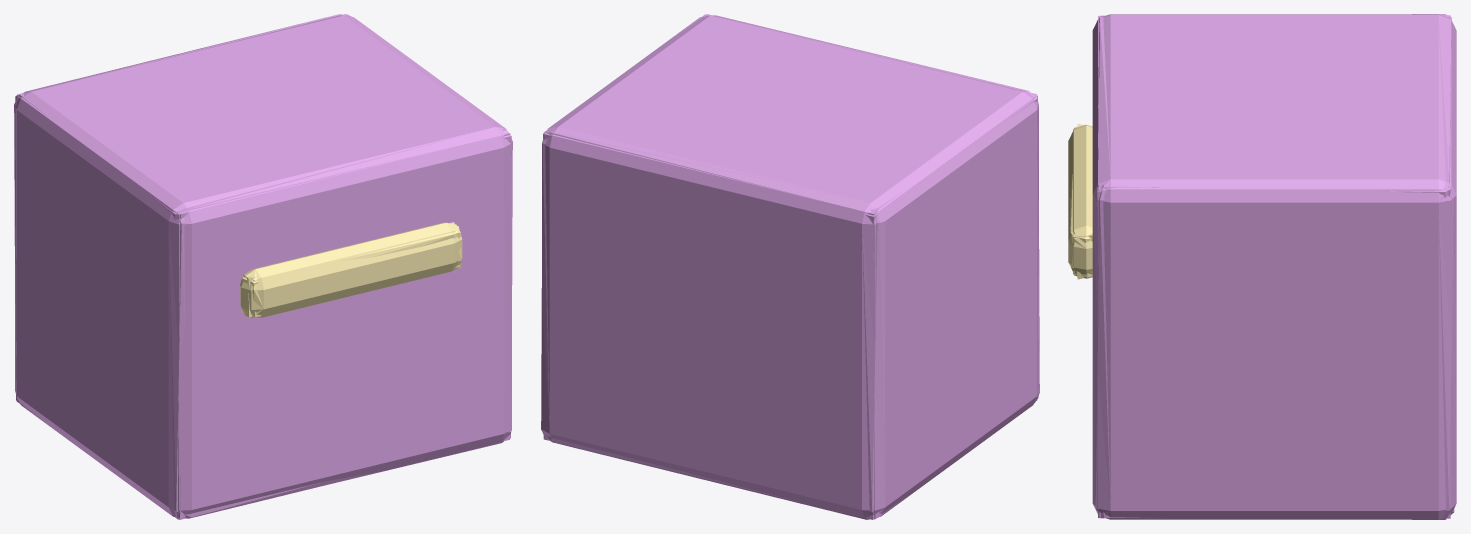
Rendered from SM_Walker.fbx.
3 renders of one model, left to right at view 1: azimuth 30°, elevation 25°; view 2: azimuth 150°, elevation 25°; view 3: azimuth 270°, elevation 25°, orthographic. The views are drawn at different scales.
Visible parts, largest first — view 1: SM_Walker, LOD1_SM_Walker, LOD2_SM_Walker; view 2: SM_Walker, LOD1_SM_Walker, LOD2_SM_Walker; view 3: SM_Walker, LOD1_SM_Walker, LOD2_SM_Walker.
Boxes of the visible parts, x1,y1,x2,y2 form: SM_Walker: [15, 15, 511, 518]; LOD1_SM_Walker: [14, 14, 512, 518]; LOD2_SM_Walker: [15, 14, 511, 519]; SM_Walker: [542, 15, 1038, 518]; LOD1_SM_Walker: [541, 15, 1039, 519]; LOD2_SM_Walker: [542, 14, 1038, 519]; SM_Walker: [1068, 14, 1456, 519]; LOD1_SM_Walker: [1070, 15, 1456, 518]; LOD2_SM_Walker: [1072, 14, 1454, 519].
Bounding box in the file's own units: 0.252 × 0.2223 × 0.2304.
